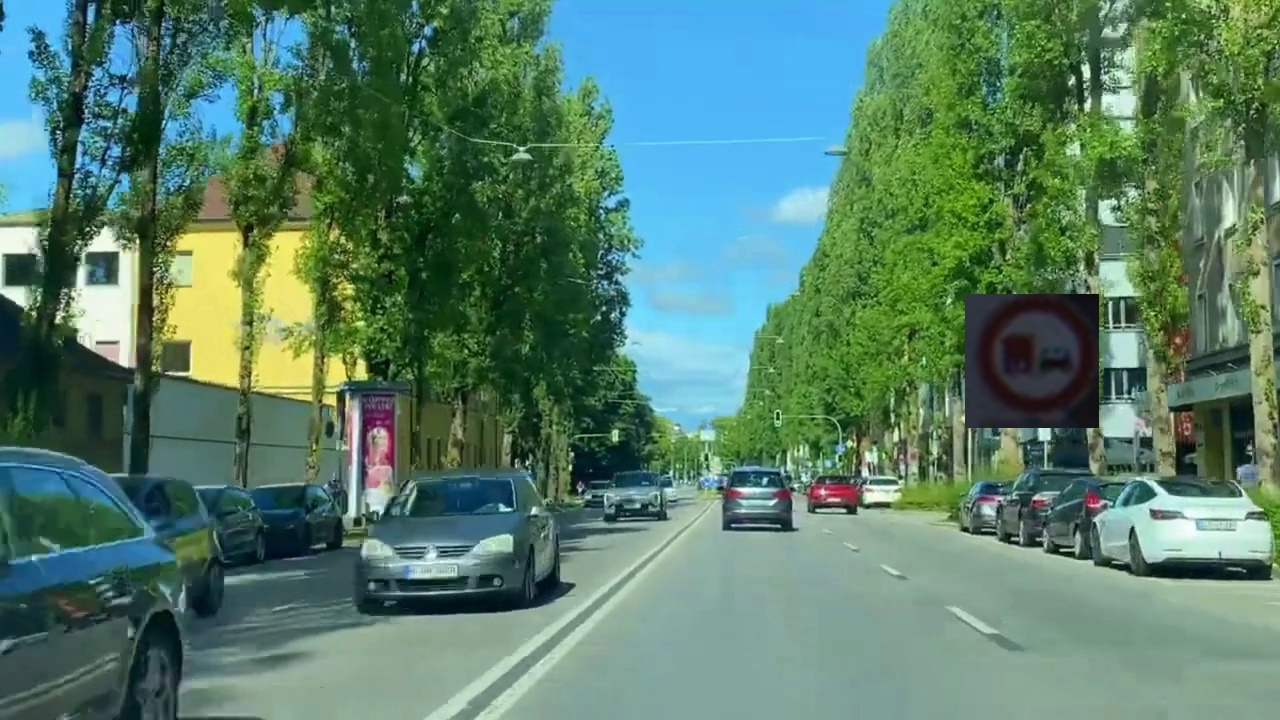No pass >3.5t: (965, 294, 1099, 428)
